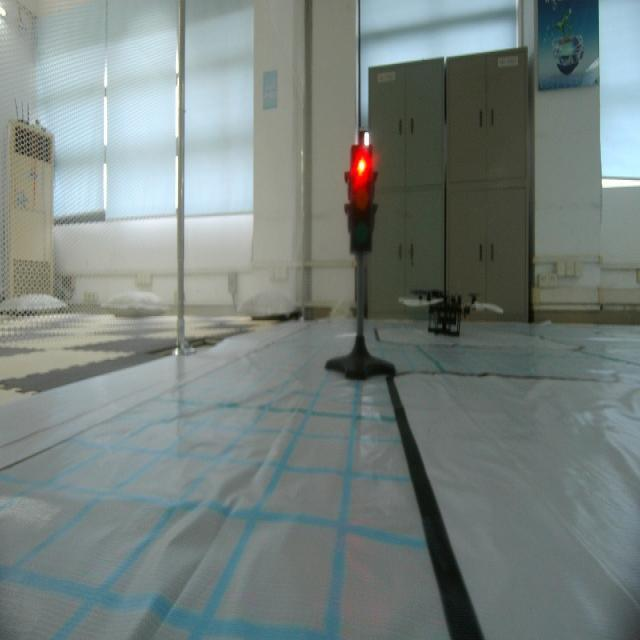red: (347, 136, 376, 263)
